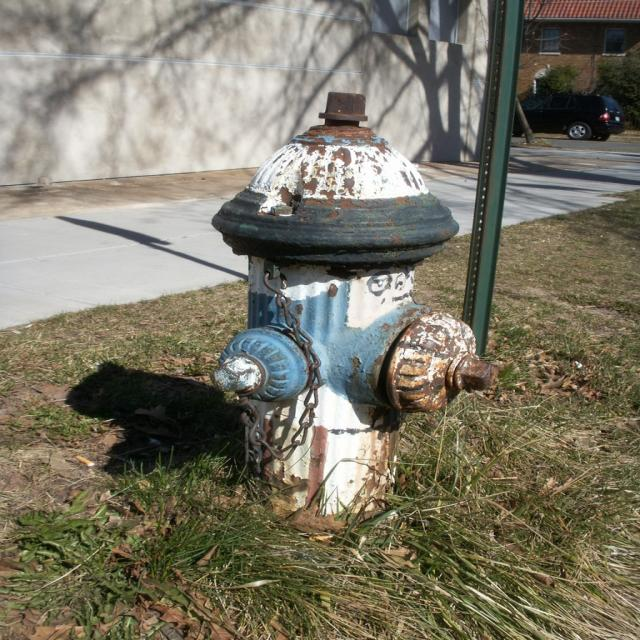fire_hydrant: (214, 92, 502, 524)
